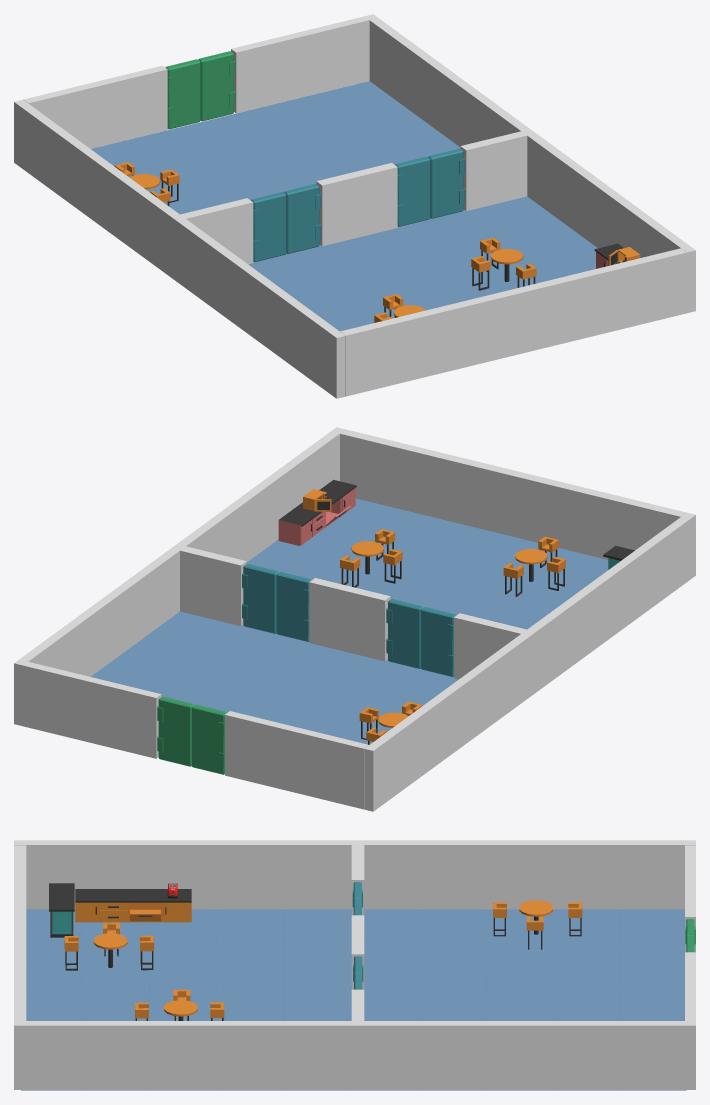
The model's file is maps_01.fbx.
The picture shows the model from 3 angles, top to bottom: view 1: azimuth 30°, elevation 25°; view 2: azimuth 150°, elevation 25°; view 3: azimuth 270°, elevation 25°; orthographic projection. The views are drawn at different scales.
Parts seen in each view (by area): view 1: polySurface188, polySurface175, polySurface178, polySurface176, polySurface184, polySurface185, polySurface6 (×3), polySurface2 (×3), polySurface181, polySurface187, polySurface186; view 2: polySurface188, polySurface175, polySurface178, polySurface176, polySurface185, polySurface184, polySurface6 (×3), polySurface2 (×3), polySurface181, polySurface187, polySurface186, polySurface114; view 3: polySurface188, polySurface176, polySurface175, polySurface99, polySurface178, polySurface117, polySurface185, polySurface184, polySurface181, polySurface186, table_02, table_01 (+2 smaller).
Part boxes in pixels (box(x1,y1,x2,y2)): polySurface188: box(91, 81, 597, 331); polySurface175: box(14, 99, 345, 398); polySurface178: box(340, 248, 686, 396); polySurface176: box(365, 14, 695, 313); polySurface184: box(231, 16, 369, 113); polySurface185: box(23, 65, 167, 148); polySurface6 (×3): box(198, 51, 464, 253); polySurface2 (×3): box(165, 59, 430, 262); polySurface181: box(316, 163, 397, 246); polySurface187: box(460, 131, 527, 210); polySurface186: box(180, 198, 253, 264); polySurface188: box(91, 498, 608, 744); polySurface175: box(364, 512, 695, 811); polySurface178: box(340, 429, 686, 559); polySurface176: box(14, 427, 345, 726); polySurface185: box(225, 711, 368, 809); polySurface184: box(23, 661, 161, 758); polySurface6 (×3): box(157, 563, 423, 766); polySurface2 (×3): box(192, 572, 456, 774); polySurface181: box(309, 578, 390, 661); polySurface187: box(180, 546, 246, 626); polySurface186: box(454, 613, 526, 679); polySurface114: box(278, 479, 356, 545); polySurface188: box(21, 909, 686, 1090); polySurface176: box(14, 1021, 695, 1089); polySurface175: box(14, 840, 695, 909); polySurface99: box(75, 889, 191, 922); polySurface178: box(14, 845, 26, 1020); polySurface117: box(49, 883, 74, 937); polySurface185: box(685, 845, 695, 952); polySurface184: box(685, 952, 695, 1020); polySurface181: box(351, 915, 364, 989); polySurface186: box(351, 845, 364, 915); table_02: box(93, 933, 127, 967); table_01: box(519, 900, 552, 934).
Size of what is drawn, in the model's own units: 54.88 by 9.21 by 85.35.
7 materials, 7 textured.
